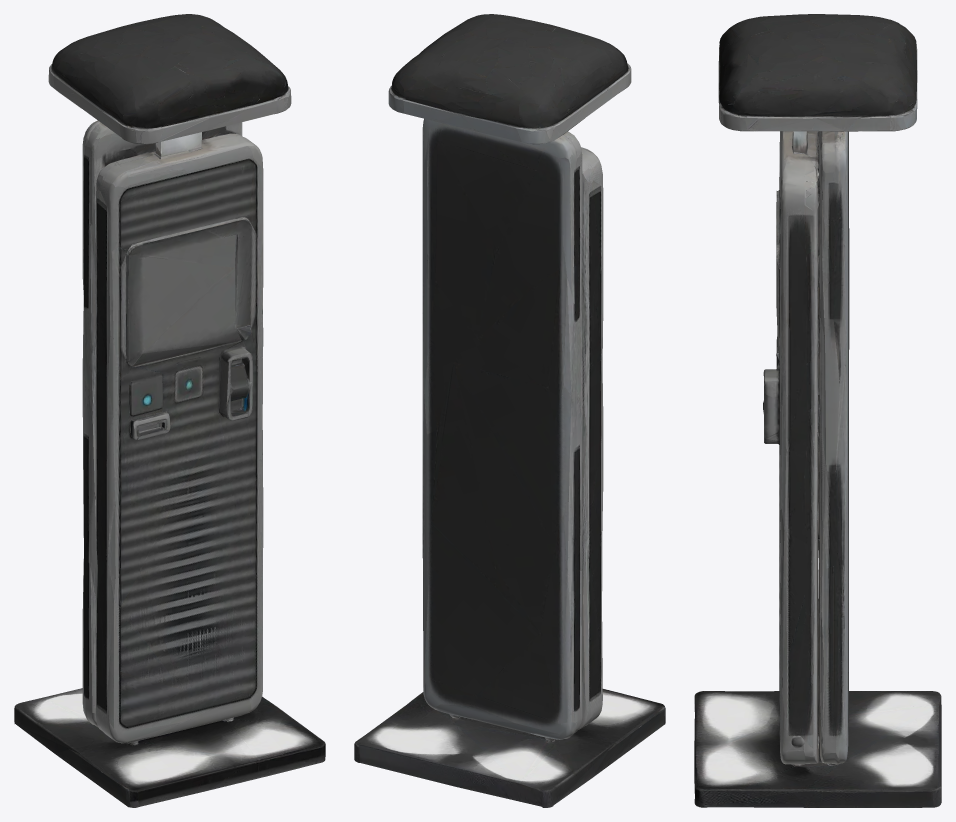
File: parking_pay_machine.glb
3 renders of one model, left to right at view 1: azimuth 30°, elevation 25°; view 2: azimuth 150°, elevation 25°; view 3: azimuth 270°, elevation 25°, orthographic. The views are drawn at different scales.
Size of the model in its own units: 0.5635 by 1.9 by 0.5892.
1 material, 1 textured.
